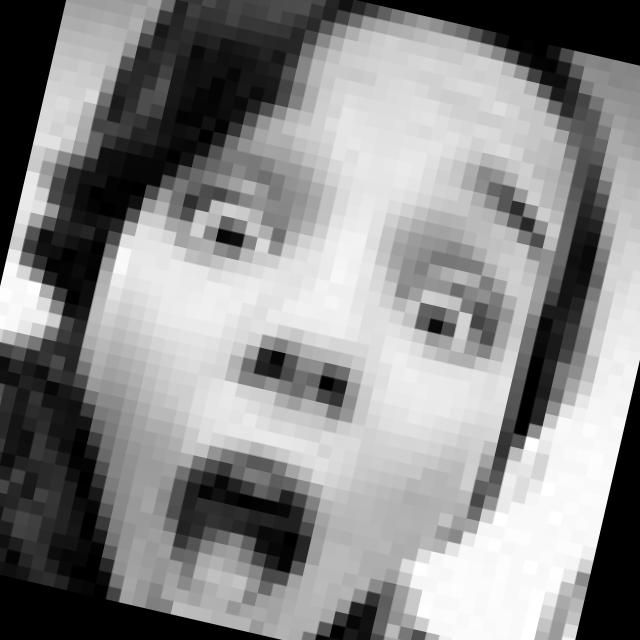surprise: (81, 63, 575, 640)
